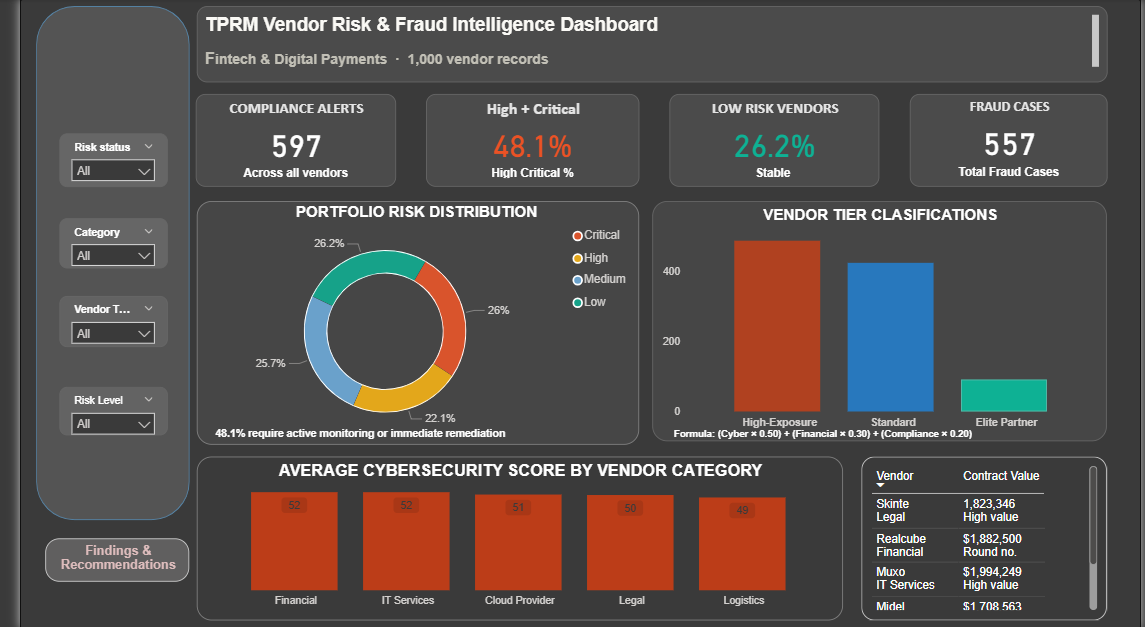

The page's visual inventory and layout, read from the dashboard file:
{"tool":"powerbi","page":{"name":"Page 1","canvas":[1280,720],"ordinal":0},"visuals":[{"type":"card","title":"COMPLIANCE ALERTS","fields":{"Values":["tprm_vendors.Compliance Alerts"]},"box":[200.6,108.4,228.2,106],"z":0},{"type":"card","title":"High + Critical","fields":{"Values":["tprm_vendors.High Critical %"]},"box":[463.4,108.4,243.2,106.1],"z":1000},{"type":"card","title":"LOW RISK VENDORS","fields":{"Values":["tprm_vendors.Low Risk Vendor %"]},"box":[741.2,108.4,239.8,106.1],"z":2000},{"type":"card","title":"FRAUD CASES","fields":{"Values":["tprm_vendors.Total Fraud Cases"]},"box":[1015.5,108.4,225.9,106.1],"z":3000},{"type":"donutChart","title":"PORTFOLIO RISK DISTRIBUTION","fields":{"Y":["tprm_vendors.Risk % of Portfolio"],"Category":["vendor_audit.Overall_risk_compliance"]},"box":[201.7,230.5,504.9,277.8],"z":4000},{"type":"clusteredColumnChart","title":"VENDOR TIER CLASIFICATIONS","fields":{"Category":["vendor_audit.Vendor Tier"],"Y":["CountNonNull(vendor_audit.Vendor Tier)"]},"box":[721.6,230.5,518.7,274.3],"z":5000},{"type":"clusteredColumnChart","title":"AVERAGE CYBERSECURITY SCORE BY VENDOR CATEGORY","fields":{"Category":["tprm_vendors.Category"],"Y":["tprm_vendors.Avg Cyber Score"]},"box":[201.7,522.2,737.7,186.7],"z":6000},{"type":"textbox","box":[201.7,8.1,1039.8,87.6],"z":7000},{"type":"textbox","box":[217.9,483,472.6,39.2],"z":8000},{"type":"textbox","box":[741.2,483,499.1,49.6],"z":9000},{"type":"actionButton","title":"Findings & Recommendations","box":[28.8,615.6,164.8,49.6],"z":10000},{"type":"tableEx","fields":{"Values":["Table (4).Vendor","Table (4).Contract Value"]},"box":[960.2,522.2,280.1,186.7],"z":11000},{"type":"shape","box":[18.4,8.1,175.2,586.7],"z":12000},{"type":"slicer","fields":{"Values":["tprm_vendors.Category"]},"box":[45,250.1,123.3,57.6],"z":13000},{"type":"slicer","fields":{"Values":["tprm_vendors.Risk_status"]},"box":[45,153.3,123.3,61.1],"z":14000},{"type":"slicer","fields":{"Values":["vendor_audit.Vendor Tier"]},"box":[45,338.9,123.3,58.8],"z":15000},{"type":"slicer","fields":{"Values":["vendor_audit.Overall_risk_compliance","vendor_audit.Overall_risk_compliance"]},"box":[45,442.6,123.3,55.3],"z":16000}]}

Visuals, with their boxes in screenshot pixels (x1, y1, x2, y2), scaled from the page's 1280x720 canvas onto the 1145x627 screenshot:
"COMPLIANCE ALERTS" card: bbox(179, 94, 384, 187)
"High + Critical" card: bbox(415, 94, 632, 187)
"LOW RISK VENDORS" card: bbox(663, 94, 878, 187)
"FRAUD CASES" card: bbox(908, 94, 1110, 187)
"PORTFOLIO RISK DISTRIBUTION" donutChart: bbox(180, 201, 632, 443)
"VENDOR TIER CLASIFICATIONS" clusteredColumnChart: bbox(645, 201, 1109, 440)
"AVERAGE CYBERSECURITY SCORE BY VENDOR CATEGORY" clusteredColumnChart: bbox(180, 455, 840, 617)
textbox: bbox(180, 7, 1111, 83)
textbox: bbox(195, 421, 618, 455)
textbox: bbox(663, 421, 1109, 464)
"Findings & Recommendations" actionButton: bbox(26, 536, 173, 579)
tableEx - Table (4).Vendor x Table (4).Contract Value: bbox(859, 455, 1109, 617)
shape: bbox(16, 7, 173, 518)
slicer - tprm_vendors.Category: bbox(40, 218, 151, 268)
slicer - tprm_vendors.Risk_status: bbox(40, 133, 151, 187)
slicer - vendor_audit.Vendor Tier: bbox(40, 295, 151, 346)
slicer - vendor_audit.Overall_risk_compliance x vendor_audit.Overall_risk_compliance: bbox(40, 385, 151, 434)
